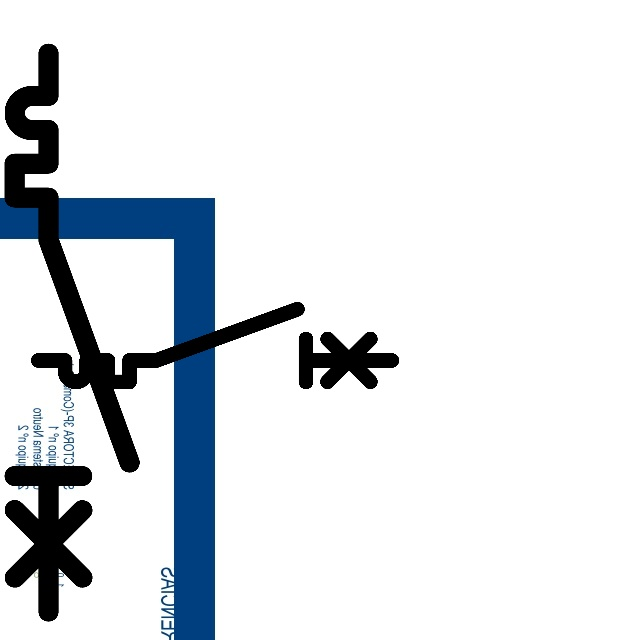interruptor_termomagnetico: (0, 39, 143, 626), (29, 300, 401, 391)
